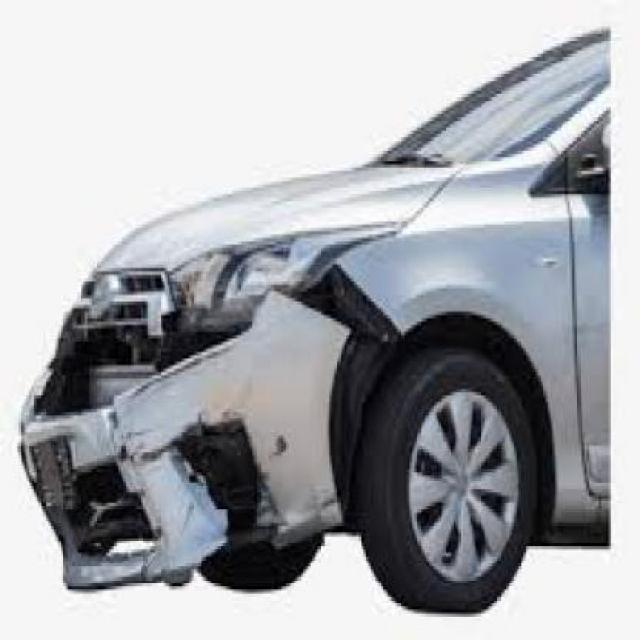damaged-front-bumper: (21, 312, 374, 588)
